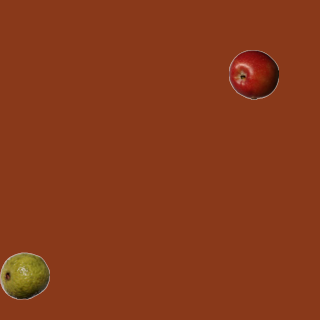Apple Braeburn: (228, 49, 278, 99)
Guava: (0, 250, 49, 300)
